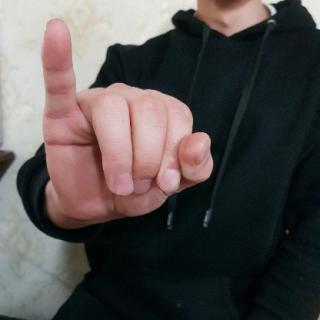MEEM: (40, 15, 221, 224)
